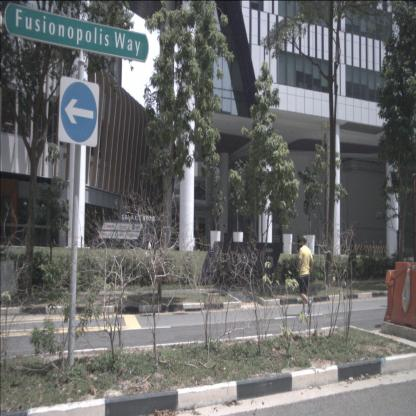barrier: (390, 262, 416, 329)
